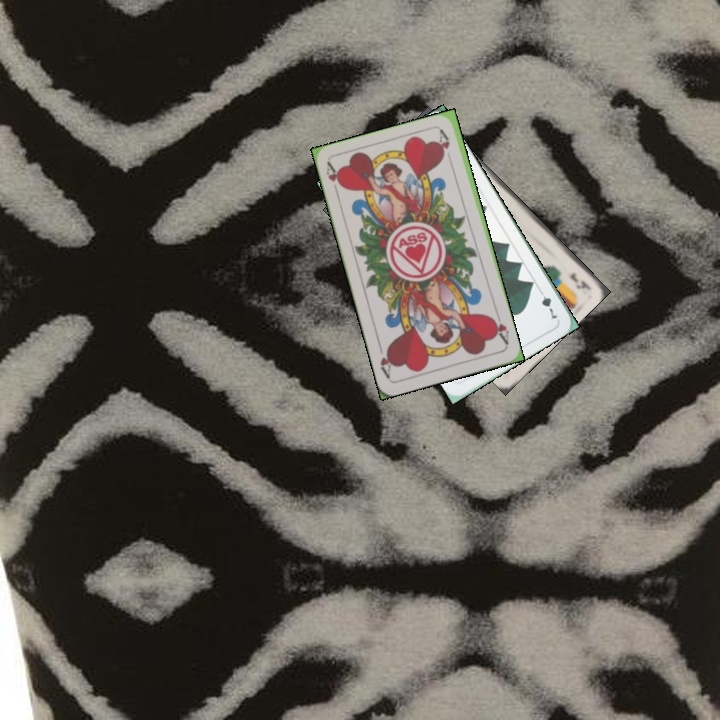EK: (565, 268, 591, 292)
G7: (534, 285, 560, 323)
HA: (322, 159, 346, 199), (487, 308, 511, 347)
